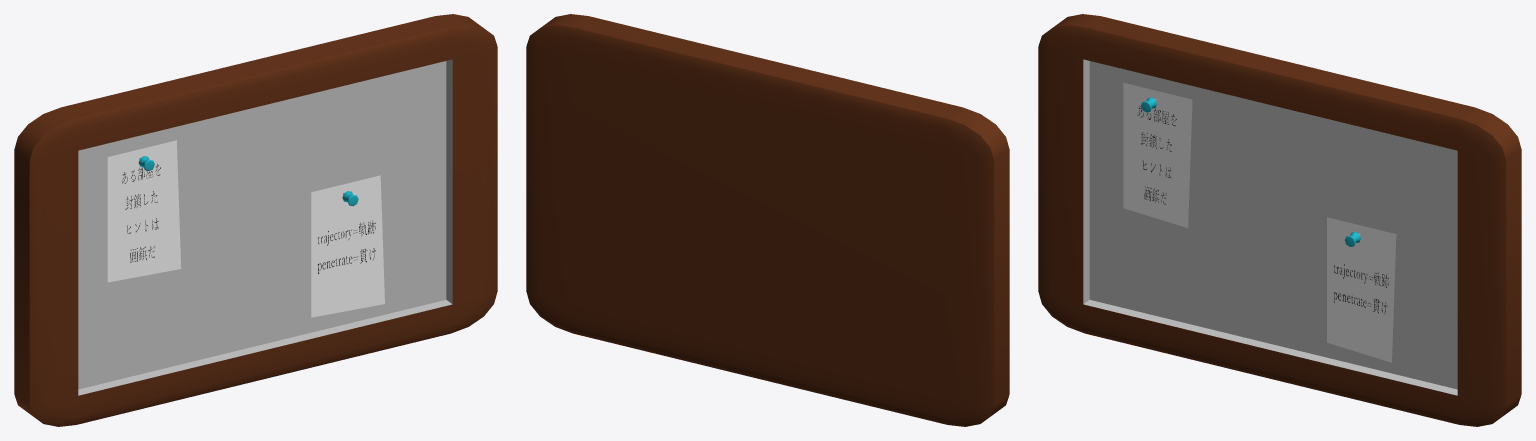
The model's file is keigi1.fbx.
3 renders of one model, left to right at view 1: azimuth 30°, elevation 25°; view 2: azimuth 150°, elevation 25°; view 3: azimuth 330°, elevation 25°, orthographic.
Parts seen in each view (by area): view 1: obj1, obj2, obj3; view 2: obj1; view 3: obj1, obj2, obj3.
Boxes of the visible parts, bbox=[...] form: obj1: bbox=[14, 14, 497, 426]; obj2: bbox=[107, 140, 181, 282]; obj3: bbox=[311, 175, 384, 317]; obj1: bbox=[526, 14, 1009, 426]; obj1: bbox=[1038, 14, 1521, 426]; obj2: bbox=[1123, 83, 1192, 227]; obj3: bbox=[1327, 217, 1396, 362].
Size of the model in its own units: 195 by 122 by 17.05.
